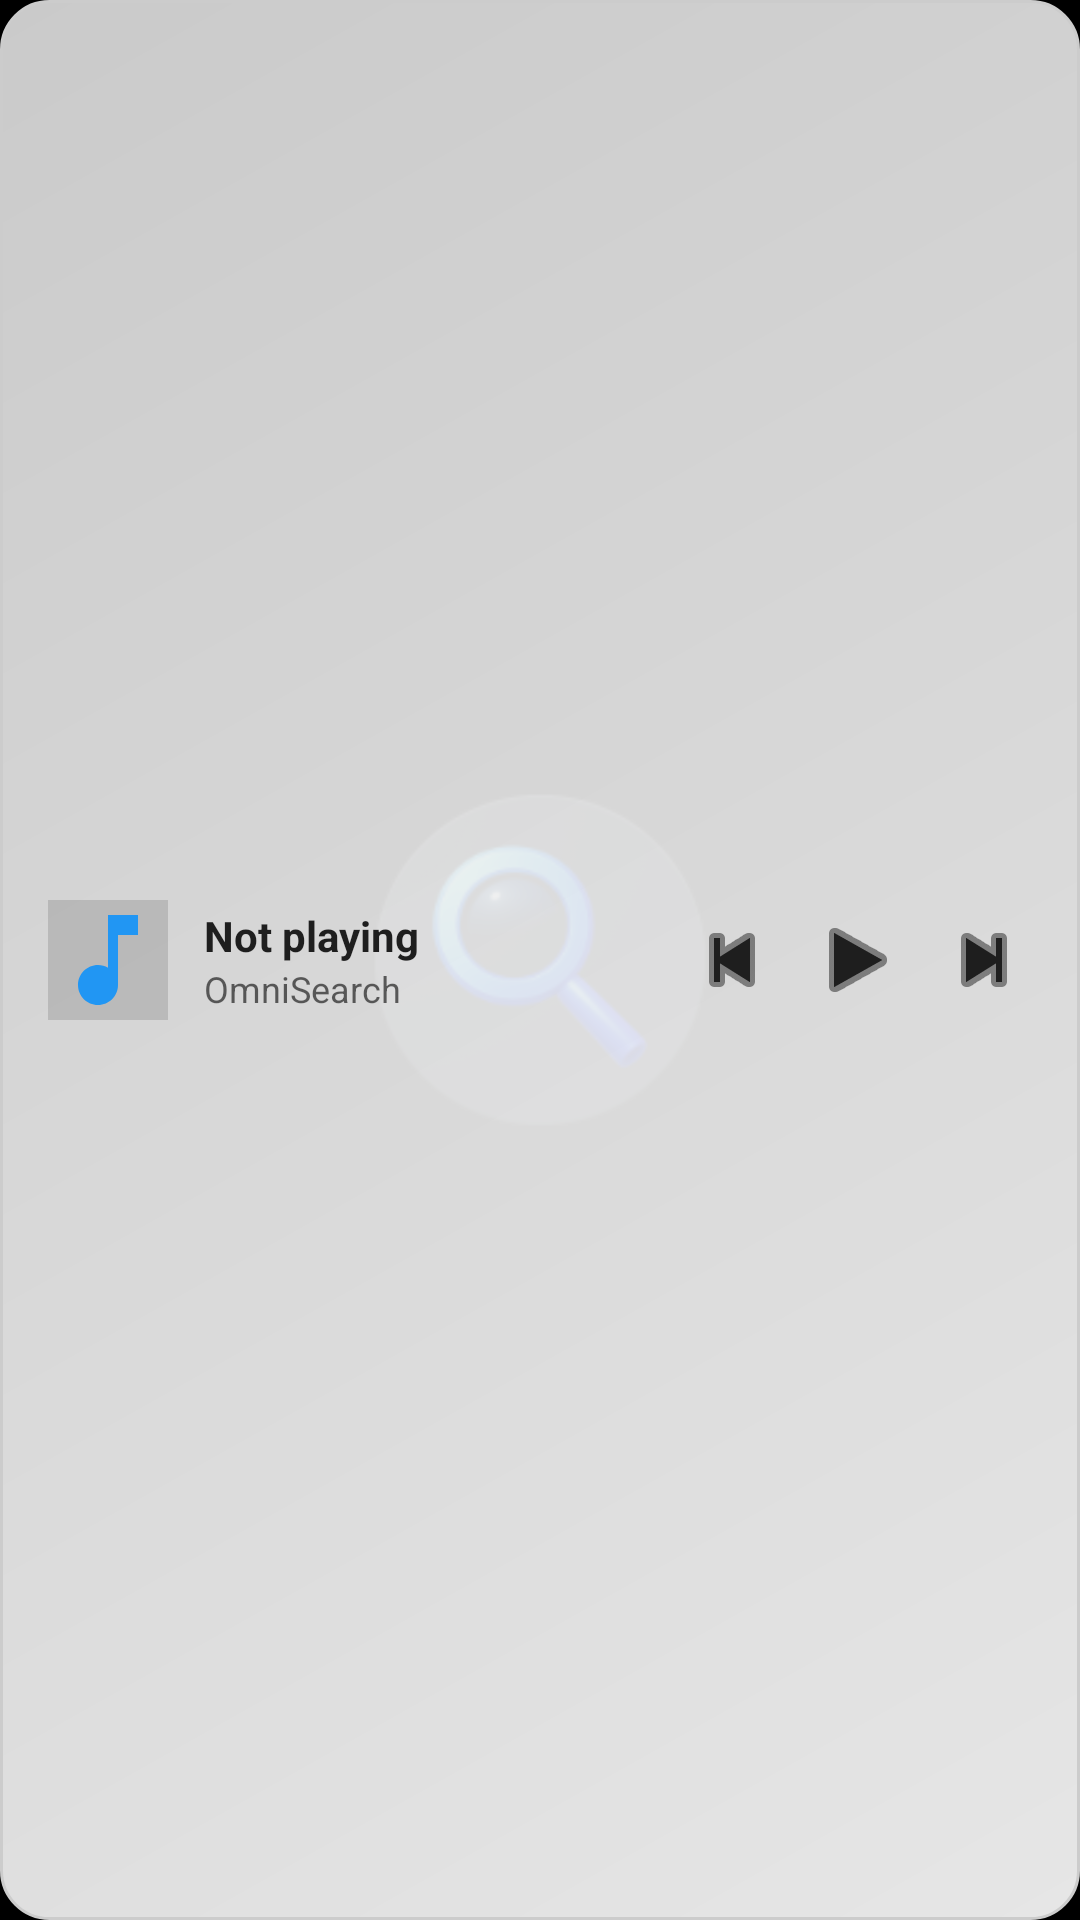

Screen size 1080x1920. Icon name, then its box in pixels as (x1, y1, x2, y2):
next: (961, 933, 1007, 987)
previous: (709, 933, 755, 987)
widget music: (48, 900, 168, 1020)
